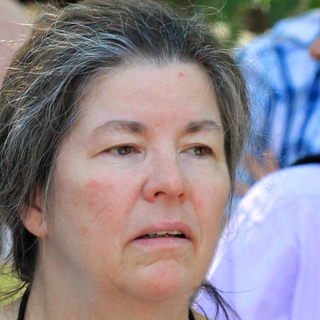eye: (98, 139, 147, 163), (175, 139, 219, 163)
